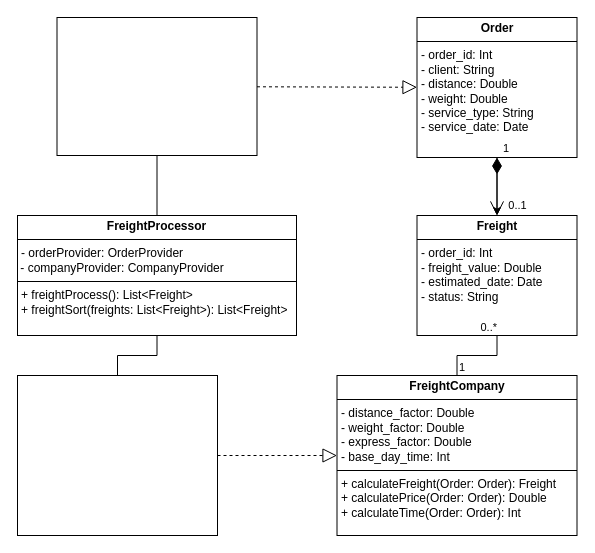
The diagram is 595 pixels wide and 553 high, and some of its shapes have lost their labels. The shapes that lost their labels are listed below. From the top down, each one's centre as x and y in pixels, then its label:
At (x=156, y=86): "<<Interface>> OrderProvider + getOrders() : List<Order> ;".
At (x=117, y=455): "<<Interface>> CompanyProvider +getCompany(): FreightCompany".
